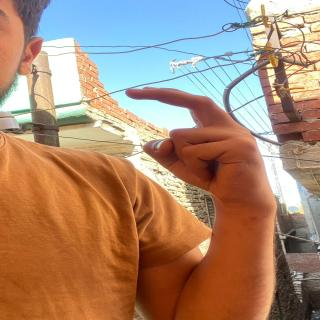ZAY: (109, 78, 282, 198)
